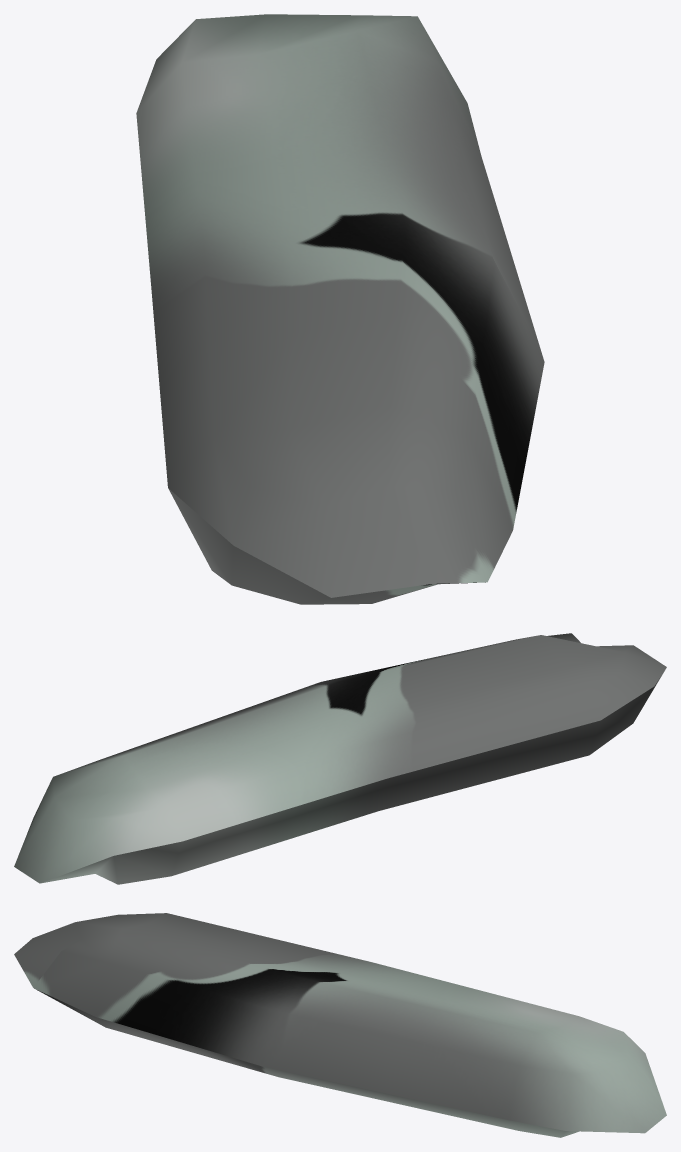
The model's file is Rock_Large_03.fbx.
3 renders of one model, top to bottom at view 1: azimuth 30°, elevation 25°; view 2: azimuth 150°, elevation 25°; view 3: azimuth 270°, elevation 25°, orthographic. The views are drawn at different scales.
Parts seen in each view (by area): view 1: Rock_Large_03; view 2: Rock_Large_03; view 3: Rock_Large_03.
Boxes of the visible parts, <box> form: Rock_Large_03: <box>136,14,544,604</box>; Rock_Large_03: <box>14,633,666,884</box>; Rock_Large_03: <box>14,913,666,1137</box>.
Size of the model in its own units: 1003 by 288 by 1606.
